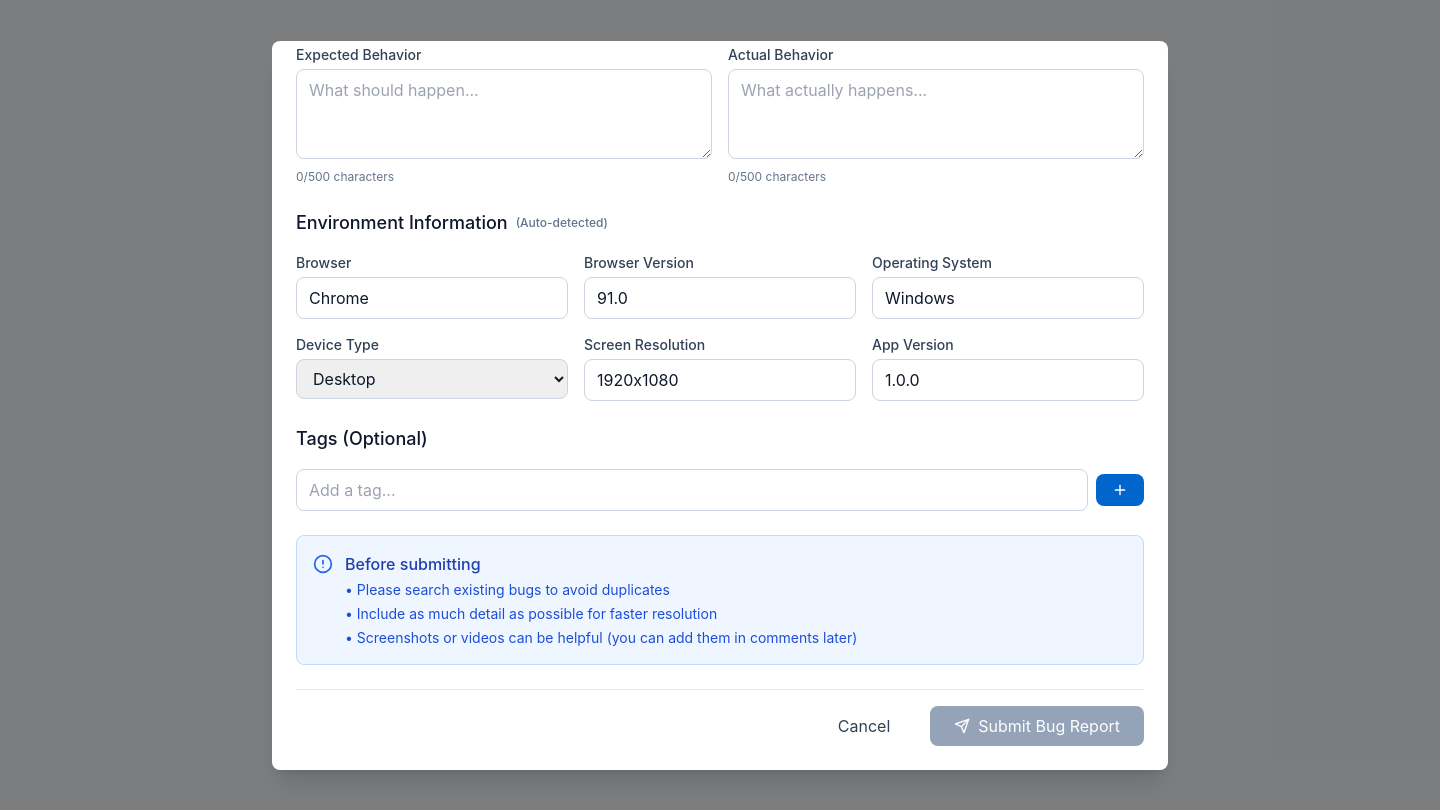
Test: BugReportForm › manages tags correctly
The width and height of the screenshot is (1440, 810).
(page scrolled)
Note: Add a tag
In the field with placeholder "Add a tag...": (692, 490) [296,468,1088,510], type "ui-bug"
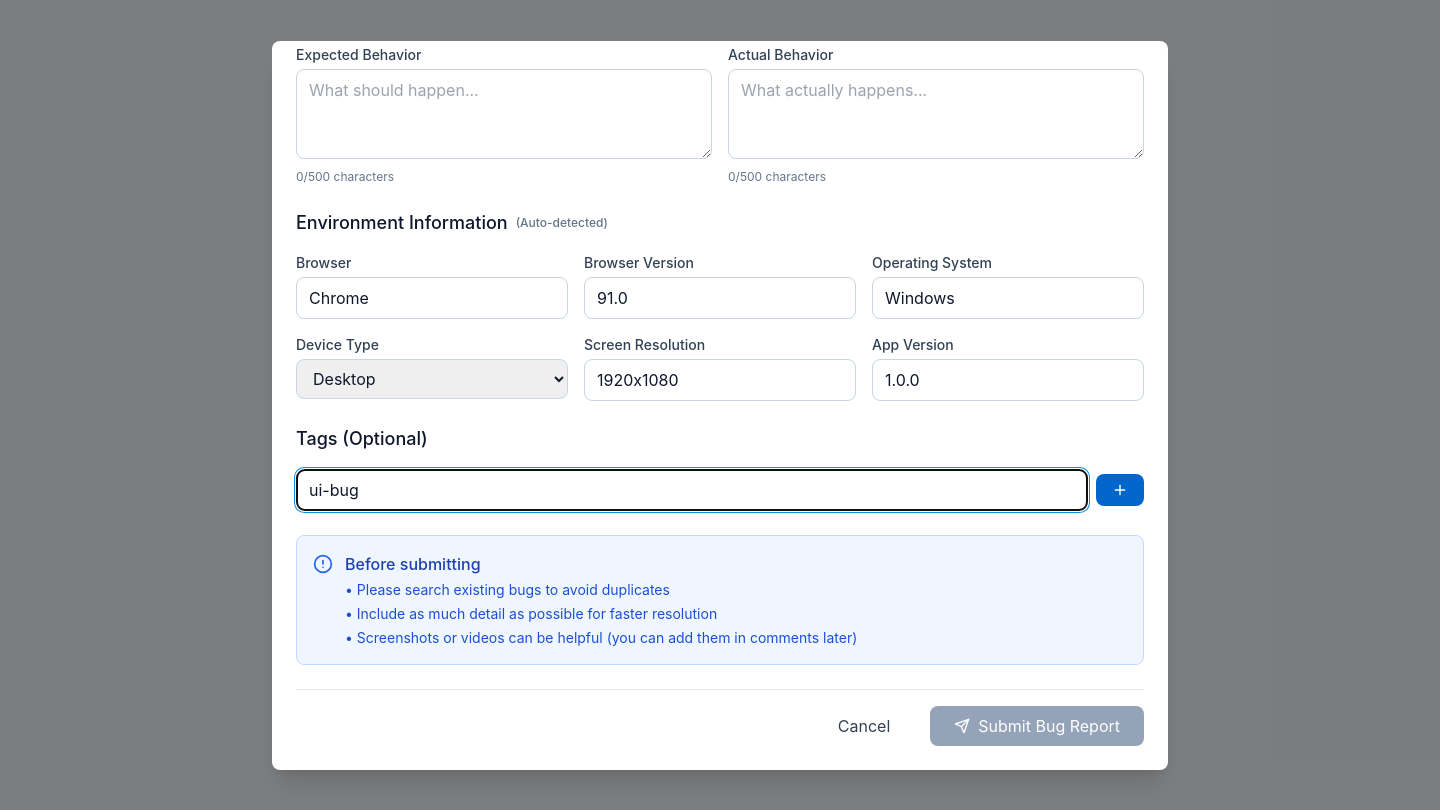
Click the button named "add tag": (1120, 490) [1096,474,1144,506]
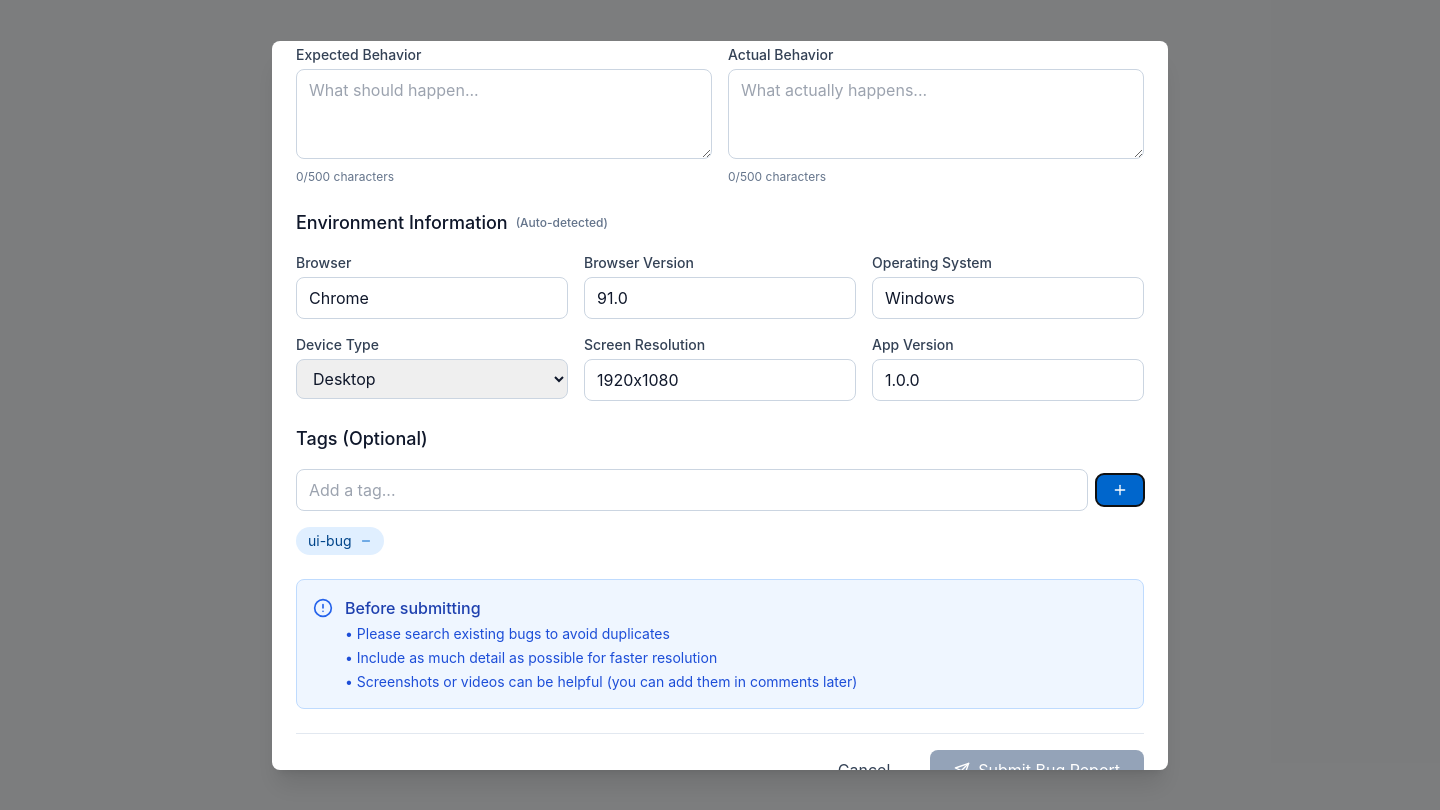
Now the text "ui-bug" is shown, box [296,526,384,554]
Now the field with placeholder "Add a tag..." is empty
Note: Add another tag by pressing Enter
In the field with placeholder "Add a tag...": (692, 490) [296,468,1088,510], type "critical-issue"
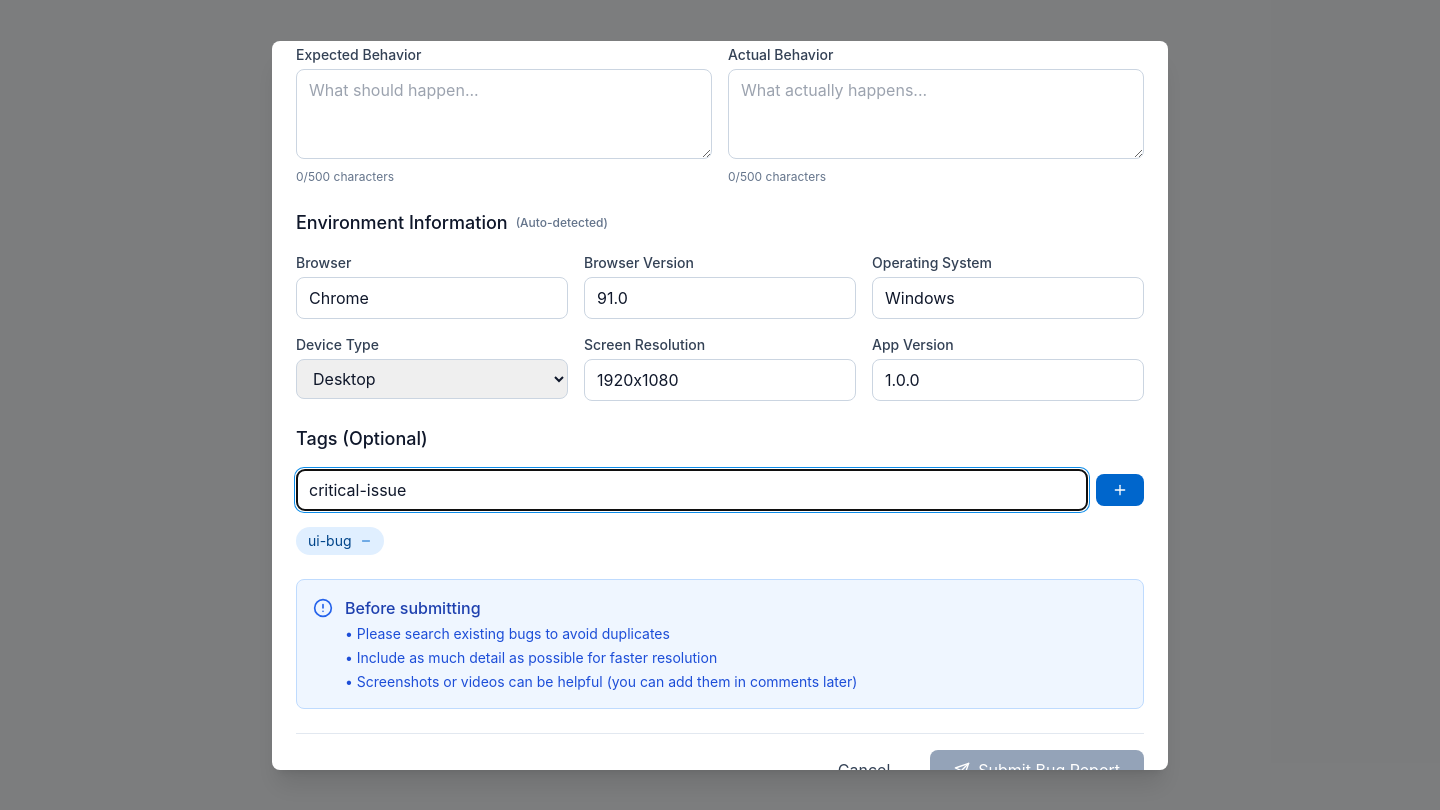
Press Enter
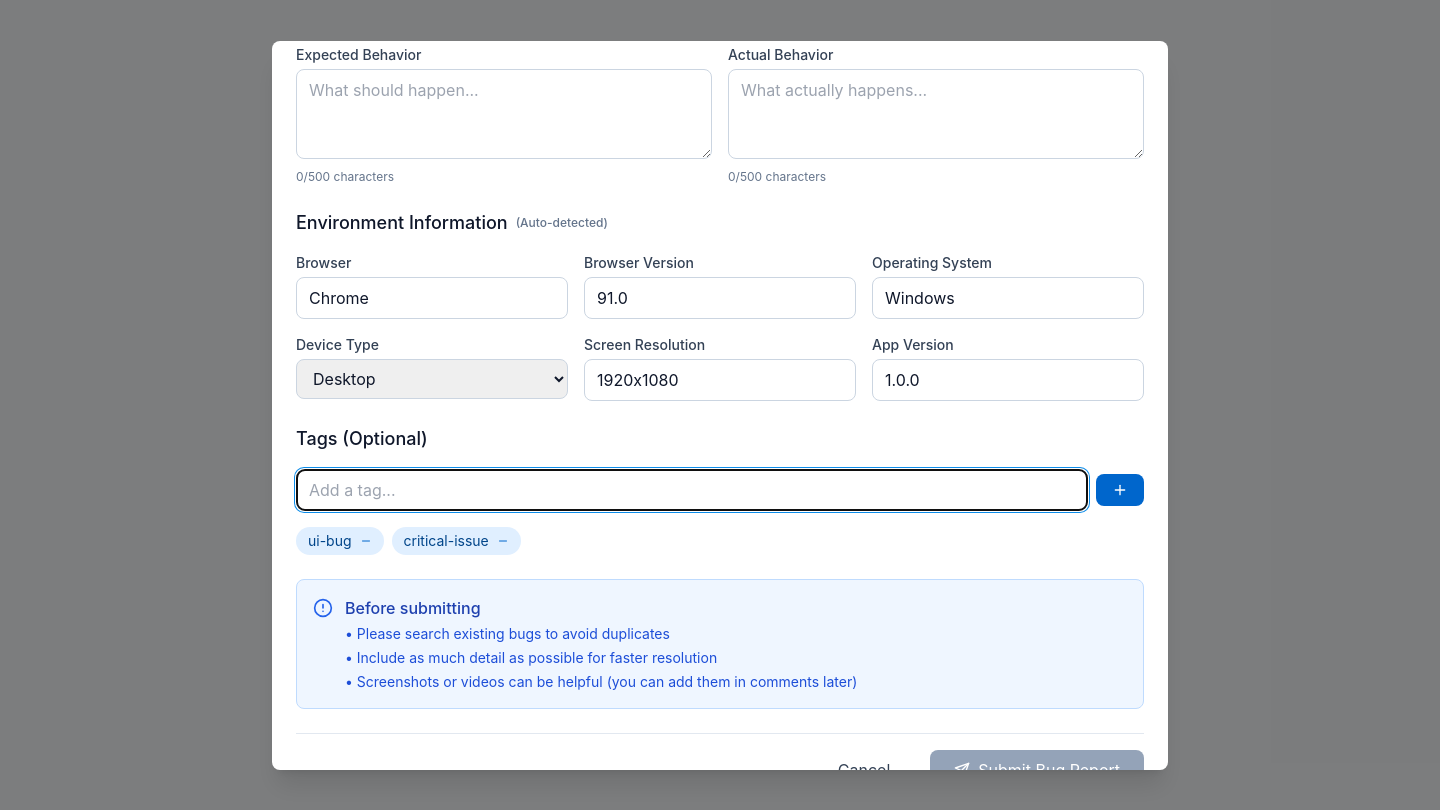
Now the text "critical-issue" is shown, box [392,526,521,554]
Note: Remove a tag
Click the button named "remove tag" next to "ui-bug": (366, 540) [360,534,372,546]
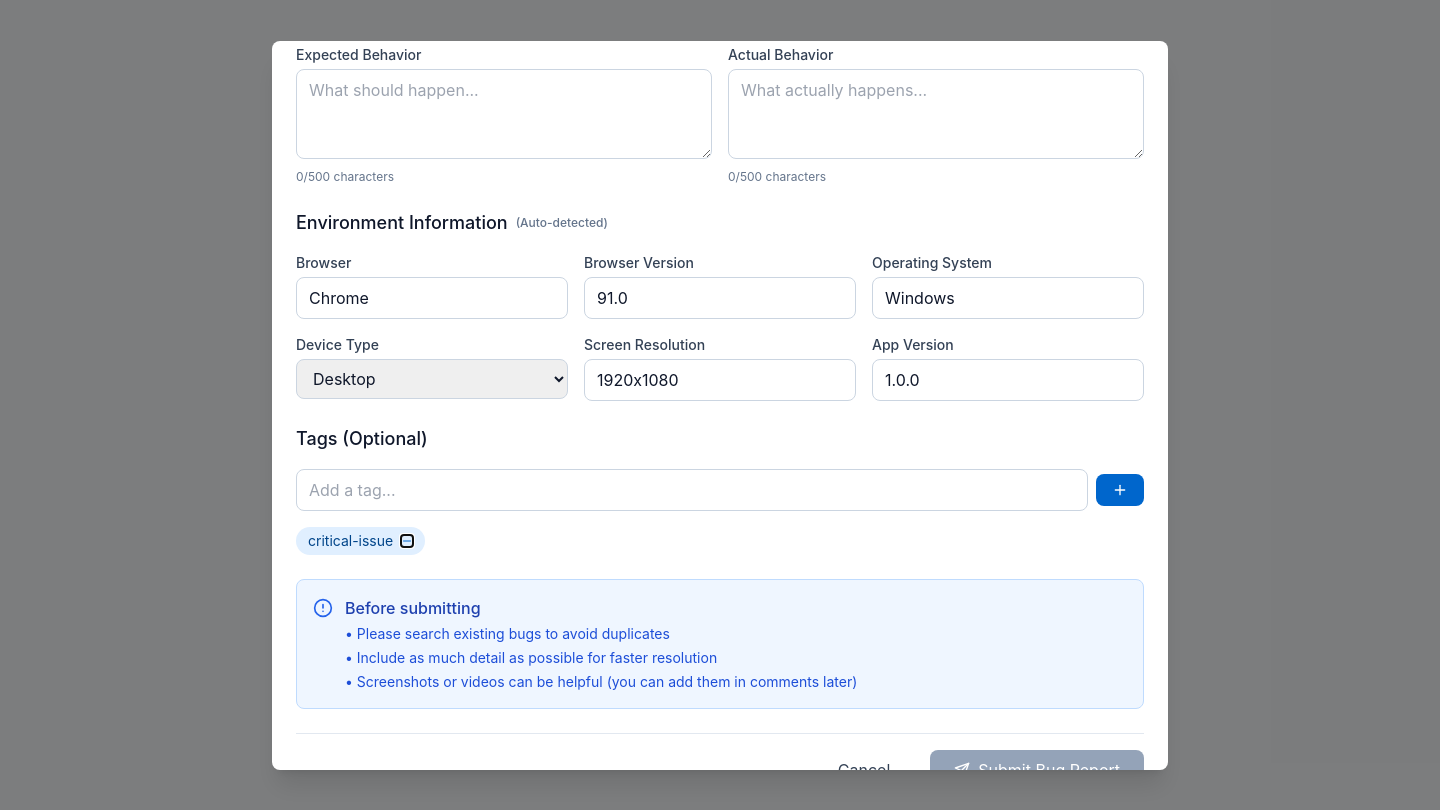
Now the text "ui-bug" is gone
